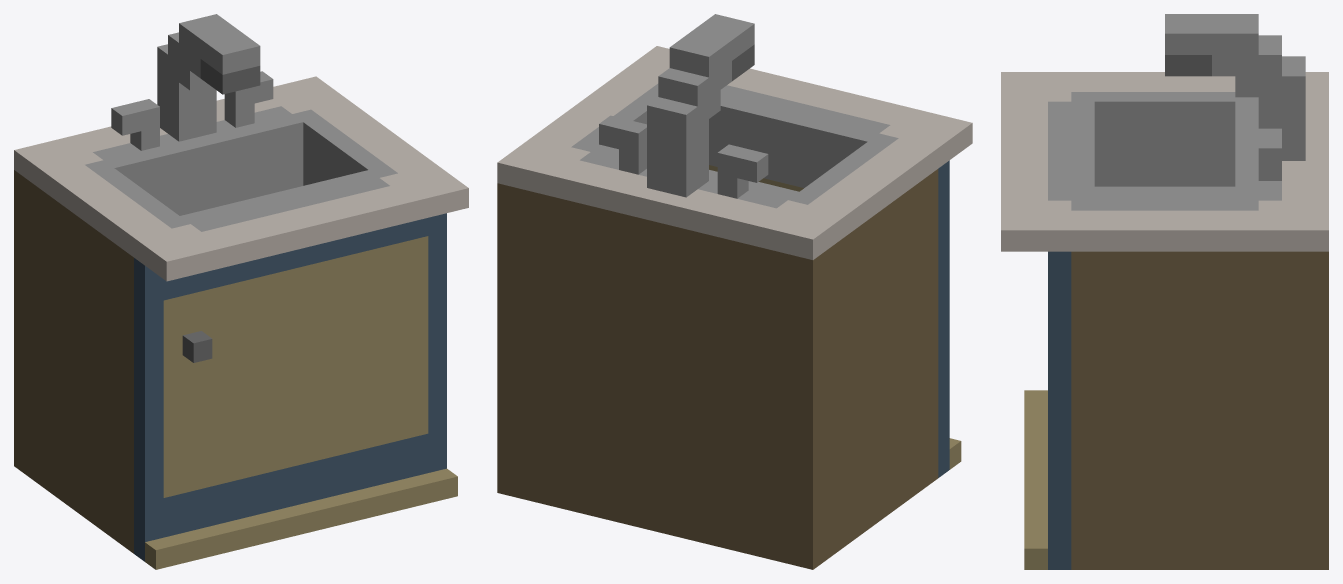
Rendered from CounterSink.obj.
3 renders of one model, left to right at view 1: azimuth 30°, elevation 25°; view 2: azimuth 150°, elevation 25°; view 3: azimuth 270°, elevation 25°, orthographic. The views are drawn at different scales.
Parts seen in each view (by area): view 1: CounterSink; view 2: CounterSink; view 3: CounterSink.
Boxes of the visible parts, x1=… form: CounterSink: x1=14, y1=14, x2=468, y2=569; CounterSink: x1=497, y1=14, x2=972, y2=569; CounterSink: x1=1001, y1=14, x2=1328, y2=569.
Bounding box in the file's own units: 16 × 22 × 14.
1 material, 1 textured.
